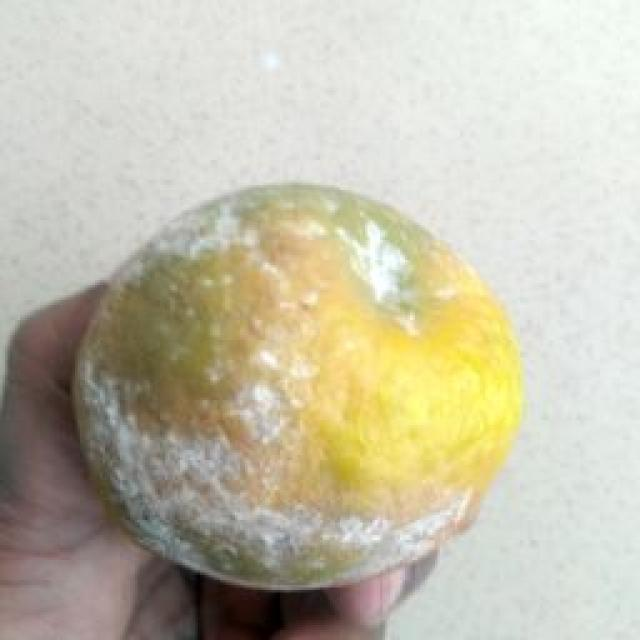Bad_Orange: (75, 184, 522, 589)
